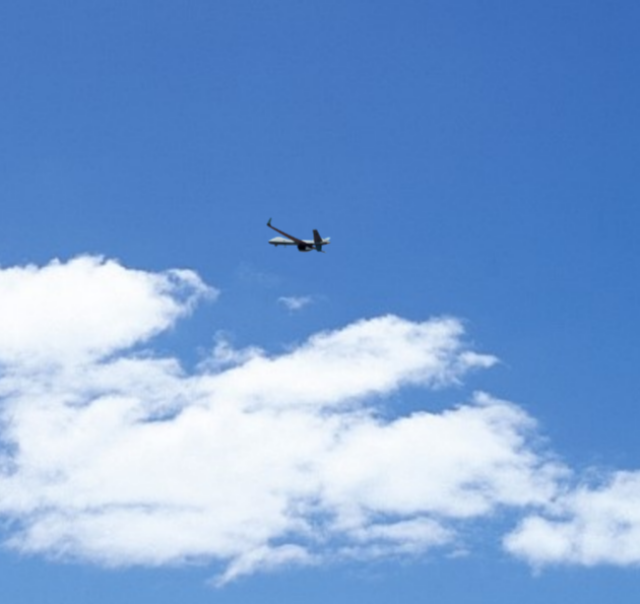military drone: (266, 217, 330, 253)
